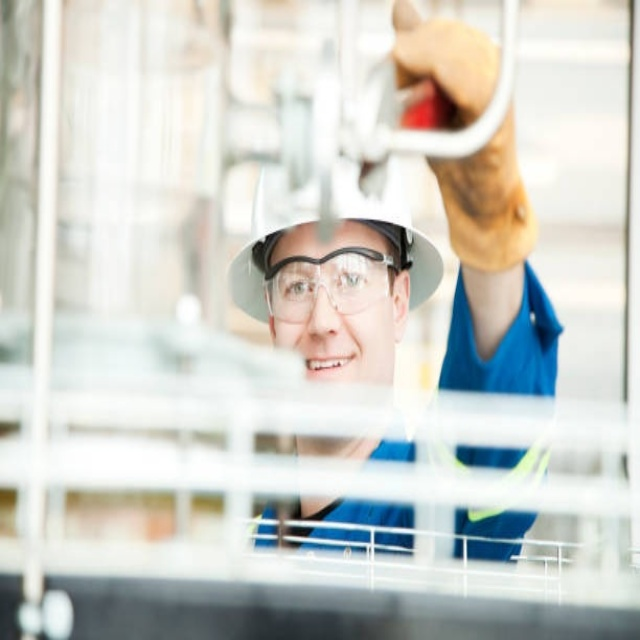Gafas: (261, 252, 401, 322)
Guantes: (387, 4, 537, 271)
Sin_mascara: (304, 352, 357, 376)
